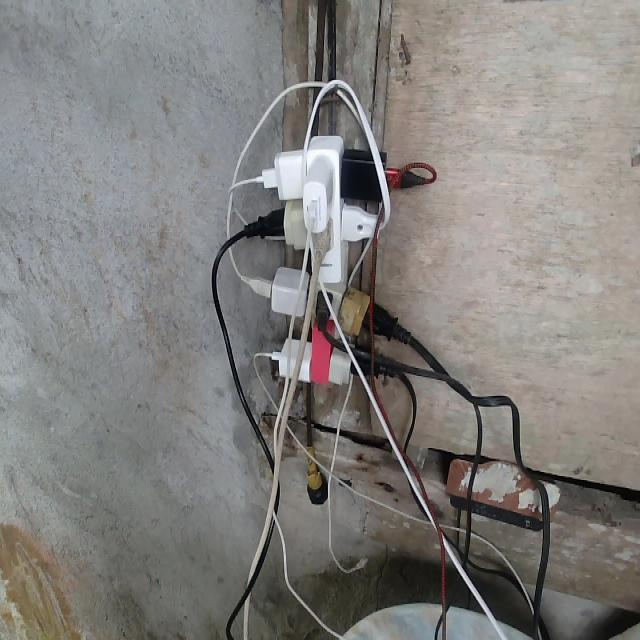-: (209, 129, 442, 420)
